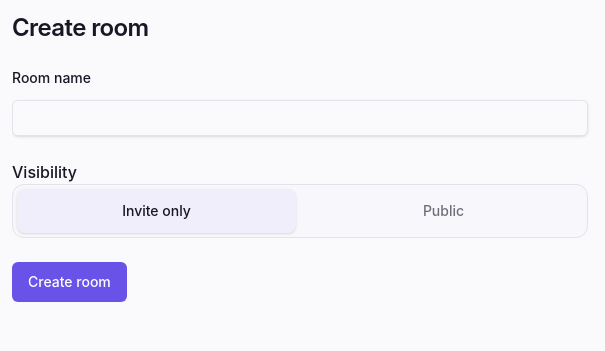
Test case: requires a room name before sending a request
Step 1. Click the button "Create room" → {"x": 69, "y": 282}, box [12,262,127,302]
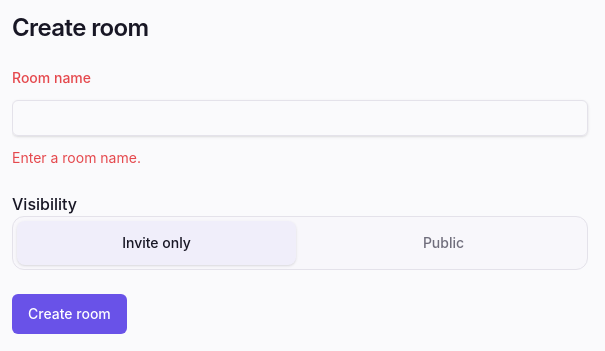
Now the message reads "Enter a room name.", box [12,149,141,166]
